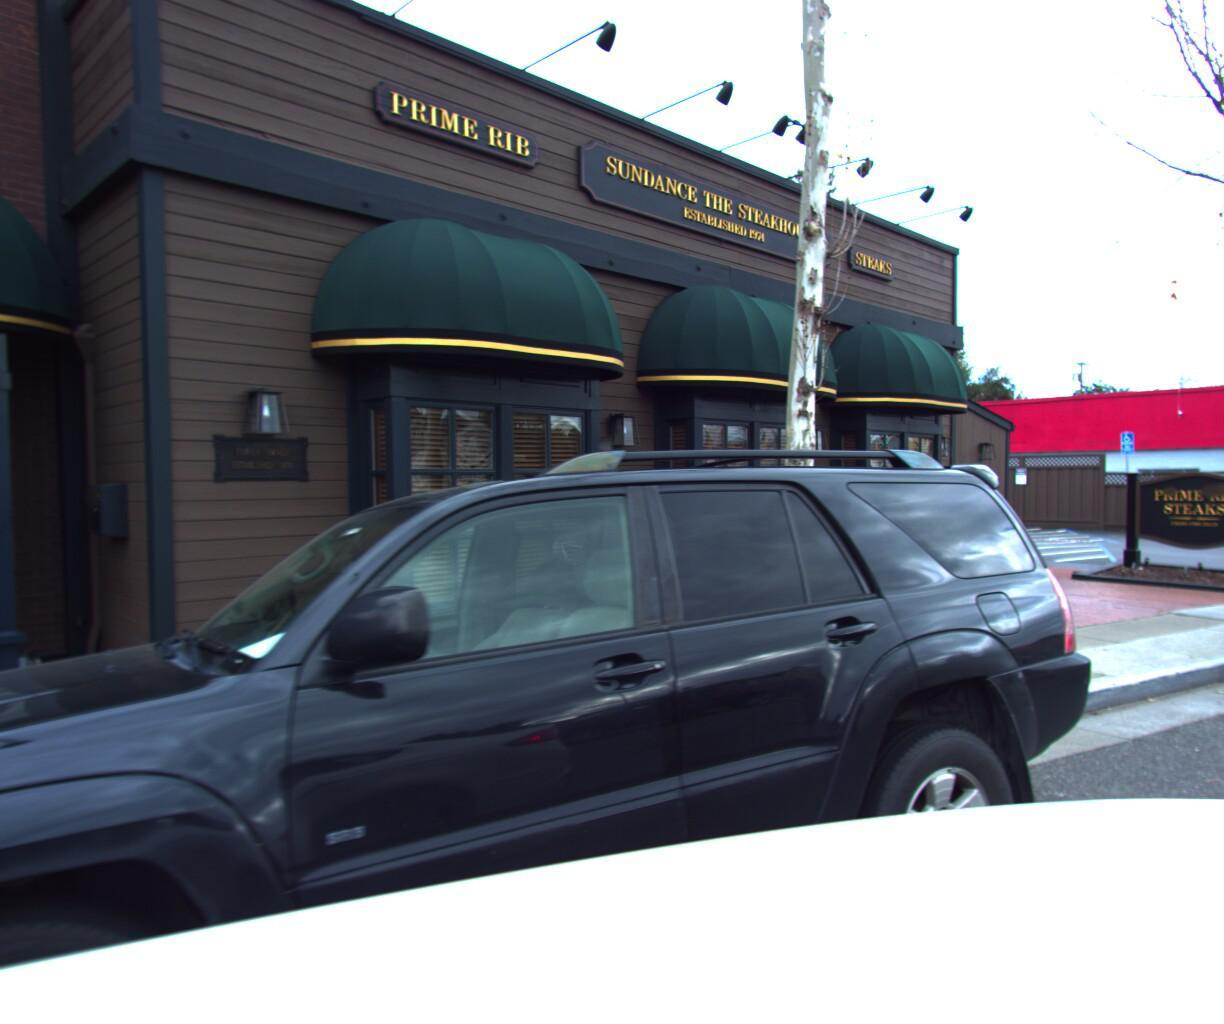car: (0, 359, 1131, 1024)
